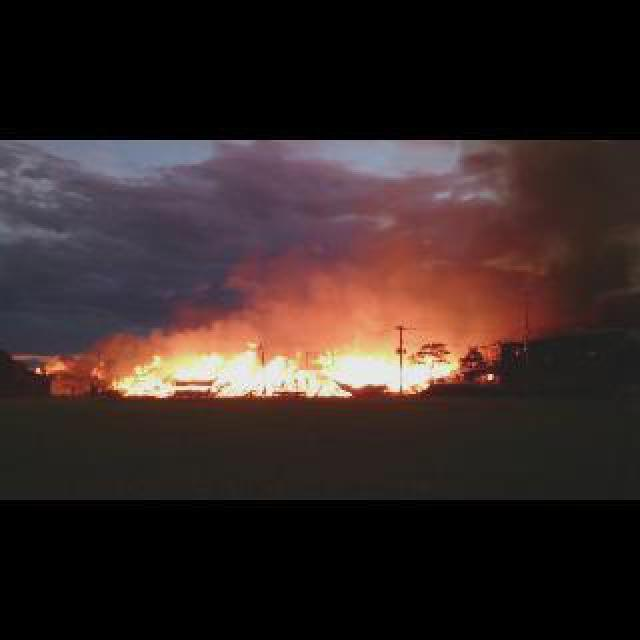Fire: (108, 338, 462, 398), (36, 356, 72, 376), (88, 360, 106, 378), (486, 372, 492, 380)
Smoke: (170, 242, 530, 354)
